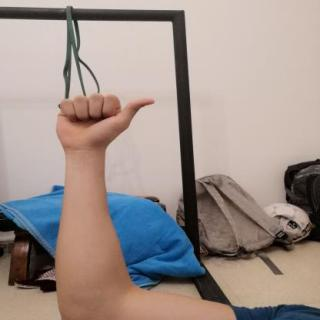DAD: (47, 88, 165, 159)
